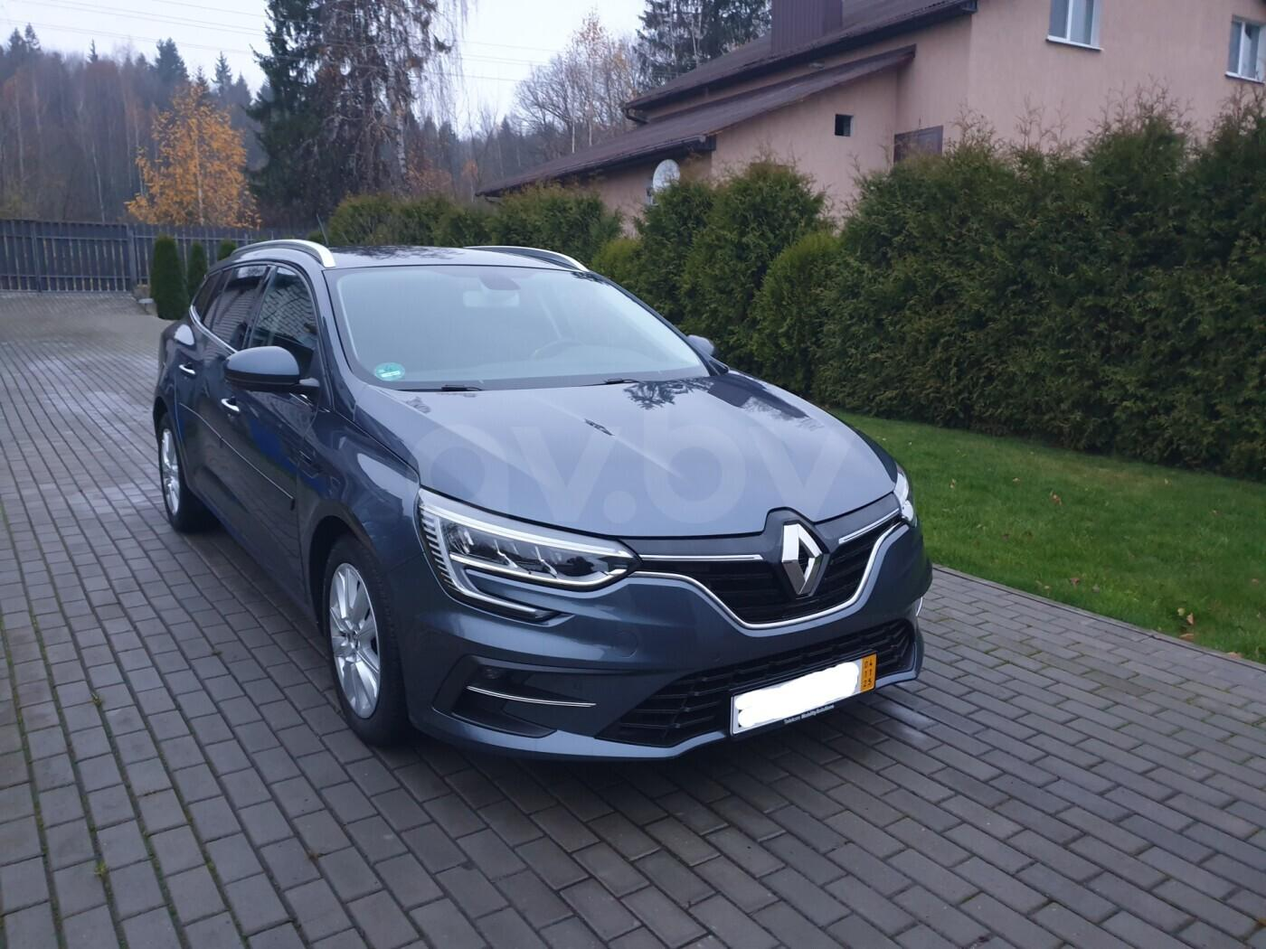Megane_2020: (152, 241, 925, 784)
